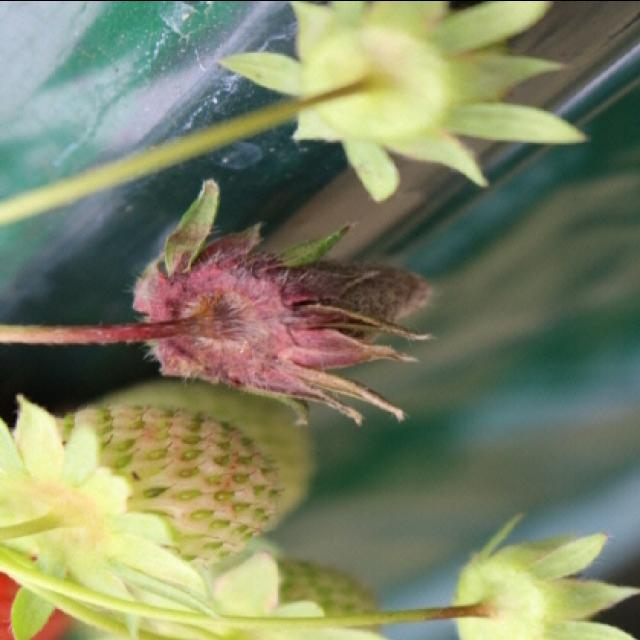Gray Mold: (70, 220, 434, 427)
